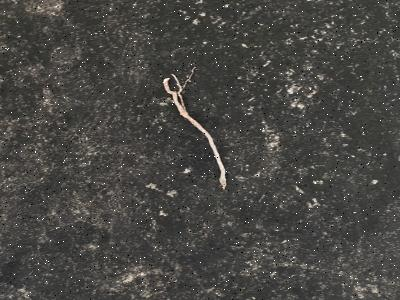Root: (163, 67, 227, 189)
